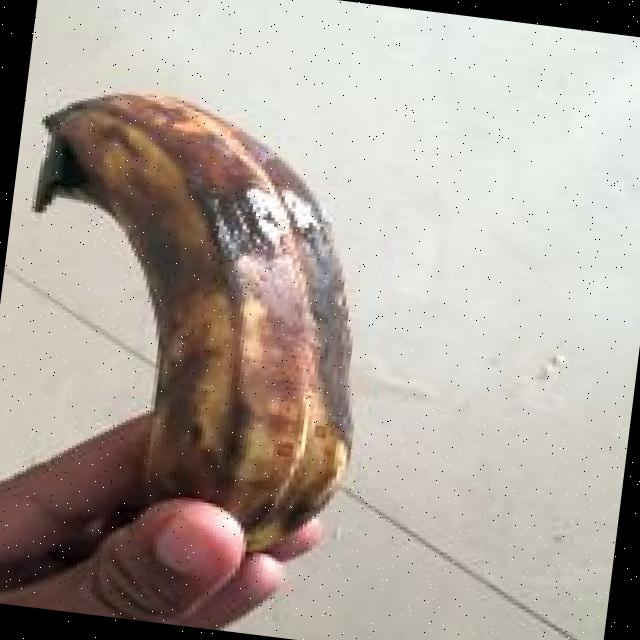Rotten: (0, 33, 415, 614)
